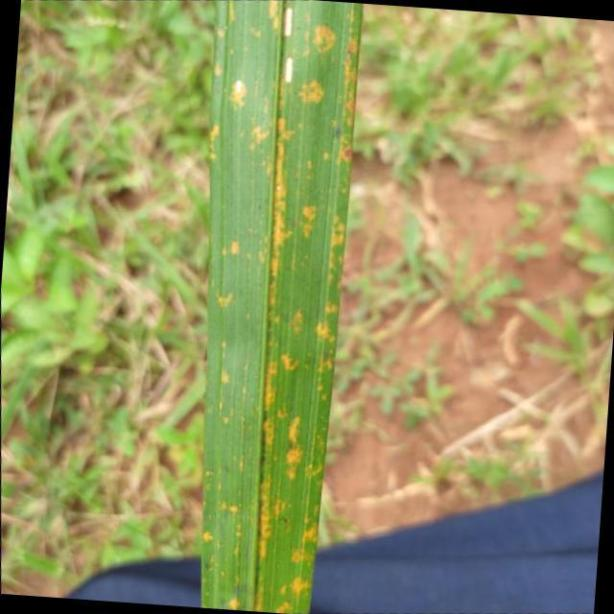Kalium: (200, 0, 363, 614)
